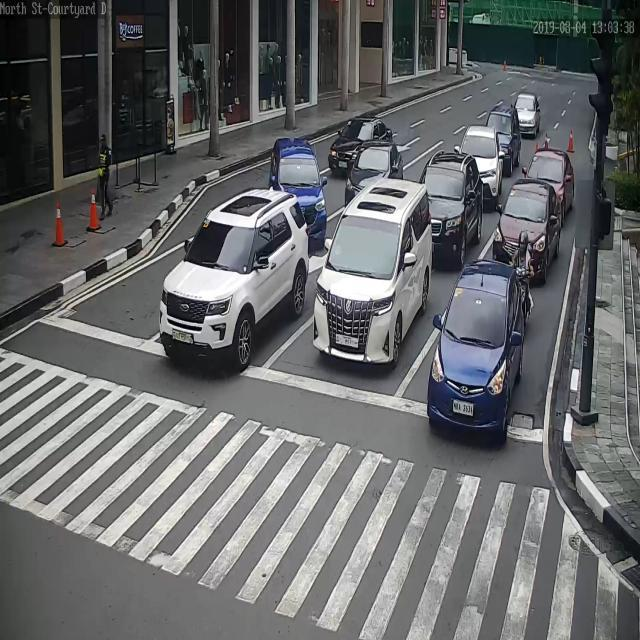car: (159, 186, 309, 369), (426, 258, 524, 439), (420, 156, 484, 273), (493, 179, 561, 279), (270, 136, 325, 240), (454, 125, 504, 204), (524, 150, 575, 219), (328, 117, 393, 171), (346, 141, 403, 195), (484, 104, 522, 172), (515, 93, 541, 135)
jeepney: (517, 223, 535, 322)
van: (313, 177, 432, 366)
